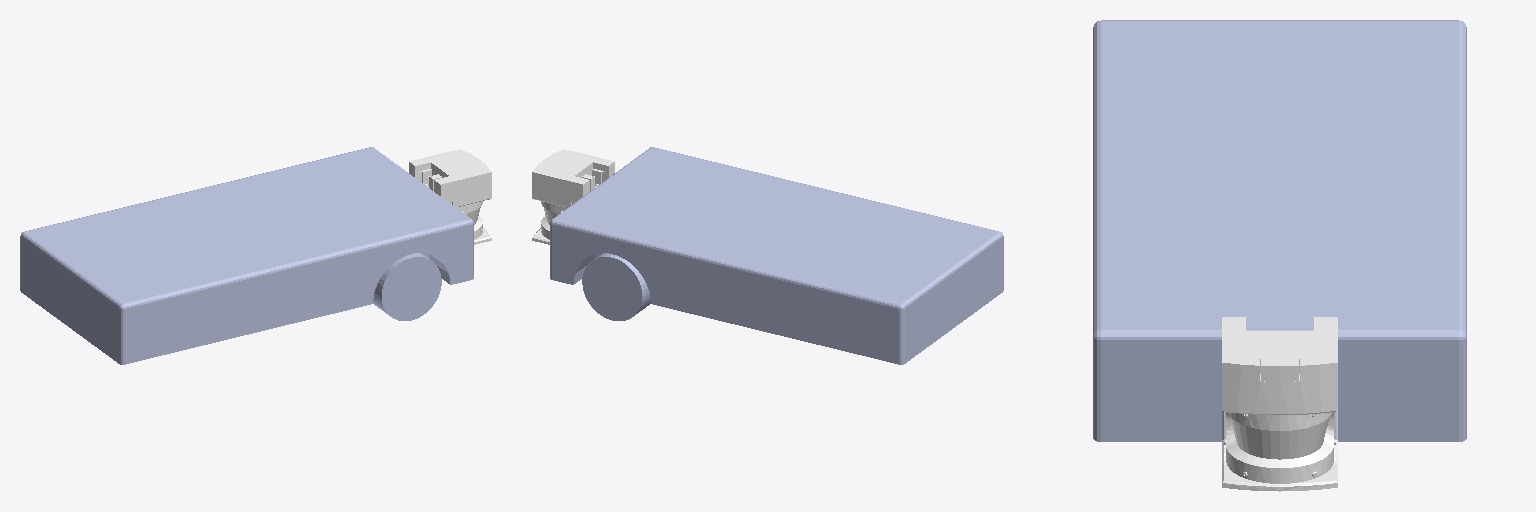
robot.urdf — differentialRobot:
<?xml version="1.0" encoding="utf-8"?>
<!-- This URDF was automatically created by SolidWorks to URDF Exporter! Originally created by [author] ([email redacted]) 
     Commit Version: 1.5.1-0-g916b5db  Build Version: 1.5.7152.31018
     For more information, please see http://wiki.ros.org/sw_urdf_exporter -->
<robot
  name="differentialRobot">
  <link
    name="base_link">
    <inertial>
      <origin
        xyz="0.0098794 -4.0782E-17 0.0034954"
        rpy="0 0 0" />
      <mass
        value="71.854" />
      <inertia
        ixx="1.657"
        ixy="-5.551E-16"
        ixz="0.021573"
        iyy="5.8166"
        iyz="1.5029E-16"
        izz="7.1645" />
    </inertial>
    <visual>
      <origin
        xyz="0 0 0"
        rpy="0 0 0" />
      <geometry>
        <mesh
          filename="package://robot_description/meshes/base_link.STL" />
      </geometry>
      <material
        name="">
        <color
          rgba="0.79216 0.81961 0.93333 1" />
      </material>
    </visual>
    <collision>
      <origin
        xyz="0 0 0"
        rpy="0 0 0" />
      <geometry>
        <mesh
          filename="package://robot_description/meshes/base_link.STL" />
      </geometry>
    </collision>
  </link>
  <link
    name="base_c_link">
    <inertial>
      <origin
        xyz="5.5511E-17 0.002282 4.7425E-17"
        rpy="0 0 0" />
      <mass
        value="0.53523" />
      <inertia
        ixx="0.00052562"
        ixy="4.0805E-21"
        ixz="3.7312E-19"
        iyy="0.0012519"
        iyz="-9.5907E-21"
        izz="0.000729" />
    </inertial>
    <visual>
      <origin
        xyz="0 0 0"
        rpy="0 0 0" />
      <geometry>
        <mesh
          filename="package://robot_description/meshes/base_c_link.STL" />
      </geometry>
      <material
        name="">
        <color
          rgba="0.64706 0.61961 0.58431 1" />
      </material>
    </visual>
    <collision>
      <origin
        xyz="0 0 0"
        rpy="0 0 0" />
      <geometry>
        <mesh
          filename="package://robot_description/meshes/base_c_link.STL" />
      </geometry>
    </collision>
  </link>
  <joint
    name="base_c_joint"
    type="fixed">
    <origin
      xyz="-0.36 0 0.010238"
      rpy="1.5708 0 0" />
    <parent
      link="base_link" />
    <child
      link="base_c_link" />
    <axis
      xyz="0 0 0" />
  </joint>
  <link
    name="fork_c_link">
    <inertial>
      <origin
        xyz="-0.018778 -0.039352 7.4319E-09"
        rpy="0 0 0" />
      <mass
        value="0.34679" />
      <inertia
        ixx="0.00062753"
        ixy="-0.00012722"
        ixz="-1.2248E-10"
        iyy="0.00044283"
        iyz="-4.7433E-11"
        izz="0.00063004" />
    </inertial>
    <visual>
      <origin
        xyz="0 0 0"
        rpy="0 0 0" />
      <geometry>
        <mesh
          filename="package://robot_description/meshes/fork_c_link.STL" />
      </geometry>
      <material
        name="">
        <color
          rgba="0.64706 0.61961 0.58431 1" />
      </material>
    </visual>
    <collision>
      <origin
        xyz="0 0 0"
        rpy="0 0 0" />
      <geometry>
        <mesh
          filename="package://robot_description/meshes/fork_c_link.STL" />
      </geometry>
    </collision>
  </link>
  <joint
    name="fork_c_joint"
    type="continuous">
    <origin
      xyz="0 0 0"
      rpy="3.1416 -0.52774 3.1416" />
    <parent
      link="base_c_link" />
    <child
      link="fork_c_link" />
    <axis
      xyz="0 1 0" />
  </joint>
  <link
    name="pin_c_link">
    <inertial>
      <origin
        xyz="1.7486E-15 5.5511E-17 1.3878E-17"
        rpy="0 0 0" />
      <mass
        value="0.09369" />
      <inertia
        ixx="2.8522E-06"
        ixy="-1.9588E-20"
        ixz="-1.319E-19"
        iyy="3.6098E-05"
        iyz="-6.088E-22"
        izz="3.6098E-05" />
    </inertial>
    <visual>
      <origin
        xyz="0 0 0"
        rpy="0 0 0" />
      <geometry>
        <mesh
          filename="package://robot_description/meshes/pin_c_link.STL" />
      </geometry>
      <material
        name="">
        <color
          rgba="0.64706 0.61961 0.58431 1" />
      </material>
    </visual>
    <collision>
      <origin
        xyz="0 0 0"
        rpy="0 0 0" />
      <geometry>
        <mesh
          filename="package://robot_description/meshes/pin_c_link.STL" />
      </geometry>
    </collision>
  </link>
  <joint
    name="pin_c_joint"
    type="fixed">
    <origin
      xyz="-0.042 -0.11024 0"
      rpy="1.5646 1.5708 0" />
    <parent
      link="fork_c_link" />
    <child
      link="pin_c_link" />
    <axis
      xyz="0 0 0" />
  </joint>
  <link
    name="bearing_c_link">
    <inertial>
      <origin
        xyz="2.0262E-15 6.9389E-17 -1.6653E-16"
        rpy="0 0 0" />
      <mass
        value="0.024819" />
      <inertia
        ixx="1.8031E-06"
        ixy="2.1178E-20"
        ixz="1.6782E-20"
        iyy="8.266E-06"
        iyz="-7.2222E-35"
        izz="8.266E-06" />
    </inertial>
    <visual>
      <origin
        xyz="0 0 0"
        rpy="0 0 0" />
      <geometry>
        <mesh
          filename="package://robot_description/meshes/bearing_c_link.STL" />
      </geometry>
      <material
        name="">
        <color
          rgba="0.64706 0.61961 0.58431 1" />
      </material>
    </visual>
    <collision>
      <origin
        xyz="0 0 0"
        rpy="0 0 0" />
      <geometry>
        <mesh
          filename="package://robot_description/meshes/bearing_c_link.STL" />
      </geometry>
    </collision>
  </link>
  <joint
    name="bearing_c_joint"
    type="continuous">
    <origin
      xyz="0 0 0"
      rpy="-1.5646 0 0" />
    <parent
      link="pin_c_link" />
    <child
      link="bearing_c_link" />
    <axis
      xyz="1 0 0" />
  </joint>
  <link
    name="wheel_c_link">
    <inertial>
      <origin
        xyz="2.2204E-16 4.1633E-17 1.9706E-15"
        rpy="0 0 0" />
      <mass
        value="0.56957" />
      <inertia
        ixx="0.00097832"
        ixy="-2.8766E-20"
        ixz="-4.3368E-19"
        iyy="0.00097832"
        iyz="-2.981E-18"
        izz="0.0017885" />
    </inertial>
    <visual>
      <origin
        xyz="0 0 0"
        rpy="0 0 0" />
      <geometry>
        <mesh
          filename="package://robot_description/meshes/wheel_c_link.STL" />
      </geometry>
      <material
        name="">
        <color
          rgba="1 1 1 1" />
      </material>
    </visual>
    <collision>
      <origin
        xyz="0 0 0"
        rpy="0 0 0" />
      <geometry>
        <mesh
          filename="package://robot_description/meshes/wheel_c_link.STL" />
      </geometry>
    </collision>
  </link>
  <joint
    name="wheel_c_joint"
    type="continuous">
    <origin
      xyz="0 0 0"
      rpy="3.1416 1.5708 -3.1416" />
    <parent
      link="bearing_c_link" />
    <child
      link="wheel_c_link" />
    <axis
      xyz="0 0 1" />
  </joint>
  <link
    name="right_wheel_link">
    <inertial>
      <origin
        xyz="0 0 -0.054877"
        rpy="0 0 0" />
      <mass
        value="1.8206" />
      <inertia
        ixx="0.0042591"
        ixy="5.421E-20"
        ixz="8.4894E-20"
        iyy="0.0042591"
        iyz="-1.0925E-20"
        izz="0.00656" />
    </inertial>
    <visual>
      <origin
        xyz="0 0 0"
        rpy="0 0 0" />
      <geometry>
        <mesh
          filename="package://robot_description/meshes/right_wheel_link.STL" />
      </geometry>
      <material
        name="">
        <color
          rgba="0.79216 0.81961 0.93333 1" />
      </material>
    </visual>
    <collision>
      <origin
        xyz="0 0 0"
        rpy="0 0 0" />
      <geometry>
        <mesh
          filename="package://robot_description/meshes/right_wheel_link.STL" />
      </geometry>
    </collision>
  </link>
  <joint
    name="right_wheel_joint"
    type="continuous">
    <origin
      xyz="0.32 -0.155 -0.064926"
      rpy="-1.5708 0.13359 0" />
    <parent
      link="base_link" />
    <child
      link="right_wheel_link" />
    <axis
      xyz="0 0 1" />
  </joint>
  <link
    name="left_wheel_link">
    <inertial>
      <origin
        xyz="0 0 -0.054877"
        rpy="0 0 0" />
      <mass
        value="1.8206" />
      <inertia
        ixx="0.0042591"
        ixy="3.2526E-19"
        ixz="8.9001E-20"
        iyy="0.0042591"
        iyz="2.098E-20"
        izz="0.00656" />
    </inertial>
    <visual>
      <origin
        xyz="0 0 0"
        rpy="0 0 0" />
      <geometry>
        <mesh
          filename="package://robot_description/meshes/left_wheel_link.STL" />
      </geometry>
      <material
        name="">
        <color
          rgba="0.79216 0.81961 0.93333 1" />
      </material>
    </visual>
    <collision>
      <origin
        xyz="0 0 0"
        rpy="0 0 0" />
      <geometry>
        <mesh
          filename="package://robot_description/meshes/left_wheel_link.STL" />
      </geometry>
    </collision>
  </link>
  <joint
    name="left_wheel_joint"
    type="continuous">
    <origin
      xyz="0.32 0.155 -0.064926"
      rpy="-1.5708 -1.2488 3.1416" />
    <parent
      link="base_link" />
    <child
      link="left_wheel_link" />
    <axis
      xyz="0 0 1" />
  </joint>
  <link
    name="laser_sick_link">
    <inertial>
      <origin
        xyz="0 0 0"
        rpy="0 0 0" />
      <mass
        value="0" />
      <inertia
        ixx="0"
        ixy="0"
        ixz="0"
        iyy="0"
        iyz="0"
        izz="0" />
    </inertial>
    <visual>
      <origin
        xyz="0 0 0"
        rpy="0 0 0" />
      <geometry>
        <mesh
          filename="package://robot_description/meshes/laser_sick_link.STL" />
      </geometry>
      <material
        name="">
        <color
          rgba="1 1 1 1" />
      </material>
    </visual>
    <collision>
      <origin
        xyz="0 0 0"
        rpy="0 0 0" />
      <geometry>
        <mesh
          filename="package://robot_description/meshes/laser_sick_link.STL" />
      </geometry>
    </collision>
  </link>
  <joint
    name="laser_sick_joint"
    type="fixed">
    <origin
      xyz="0.501 0 0.0125"
      rpy="1.5708 0 1.5708" />
    <parent
      link="base_link" />
    <child
      link="laser_sick_link" />
    <axis
      xyz="0 0 0" />
  </joint>


   <gazebo>
    <plugin name="differential_drive_controller" filename="libgazebo_ros_diff_drive.so">
      <leftJoint>right_wheel_joint</leftJoint>
      <rightJoint>left_wheel_joint</rightJoint>
      <robotBaseFrame>base_link</robotBaseFrame>
      <wheelSeparation>0.25</wheelSeparation>
      <wheelDiameter>0.07</wheelDiameter>
      <publishWheelJointState>true</publishWheelJointState>
    </plugin>
  </gazebo>

  <gazebo>
    <plugin name="joint_state_publisher" filename="libgazebo_ros_joint_state_publisher.so">
      <jointName>fork_c_joint, wheel_c_joint</jointName>
    </plugin>
  </gazebo>

  <gazebo reference="Hokuyo_link">
    <sensor type="ray" name="hokuyo">
      <pose>0 0 0 0 0 0</pose>
      <visualize>false</visualize>
      <update_rate>40</update_rate>
      <ray>
        <scan>
          <horizontal>
            <samples>720</samples>
            <resolution>1</resolution>
            <min_angle>-1.570796</min_angle>
            <max_angle>1.570796</max_angle>
          </horizontal>
        </scan>
        <range>
          <min>0.10</min>
          <max>30.0</max>
          <resolution>0.01</resolution>
        </range>
      </ray>
      <plugin name="gpu_laser" filename="libgazebo_ros_laser.so">
        <topicName>/scan</topicName>
        <frameName>laser_sick_link</frameName>
      </plugin>
    </sensor>
  </gazebo>
</robot>

--- Facts derived from the render (not from the file) ---
Views: 3 orthographic renders of the robot side by side, from view 1: azimuth 30°, elevation 25°; view 2: azimuth 150°, elevation 25°; view 3: azimuth 270°, elevation 25°.
Model differentialRobot with 9 links and 8 joints (5 continuous, 3 fixed), rooted at base_link, posed all joints at 0.
Visible links, largest first — view 1: base_link, laser_sick_link, right_wheel_link; view 2: base_link, laser_sick_link, left_wheel_link; view 3: base_link, laser_sick_link.
Boxes of the visible links, x1,y1,x2,y2 form: base_link: (20,147,473,364); laser_sick_link: (409,149,491,244); right_wheel_link: (373,253,441,320); base_link: (550,147,1003,364); laser_sick_link: (532,149,614,244); left_wheel_link: (582,253,650,320); base_link: (1093,20,1466,441); laser_sick_link: (1222,317,1337,491).
Size in the robot's own frame: 1.16 by 0.5 by 0.2797 metres.
Meshes: 9 distinct files referenced, 9 mesh visuals loaded (9 binary STL).
